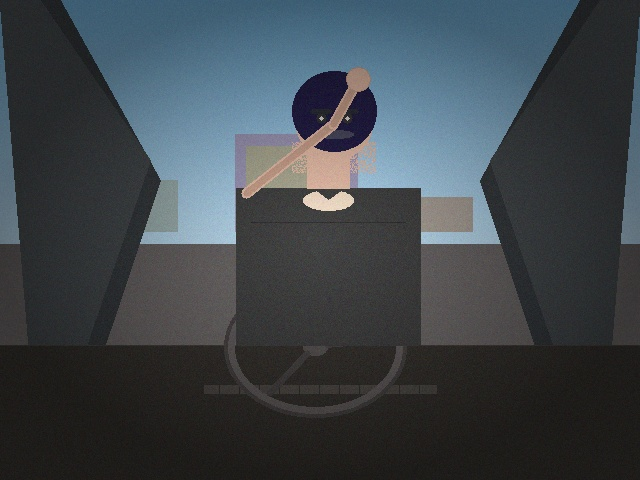hands_off_wheel: (337, 56, 379, 101)
